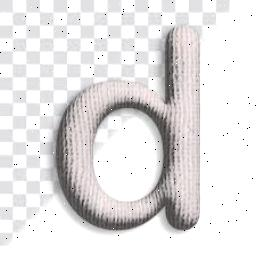d: (54, 20, 210, 240)
